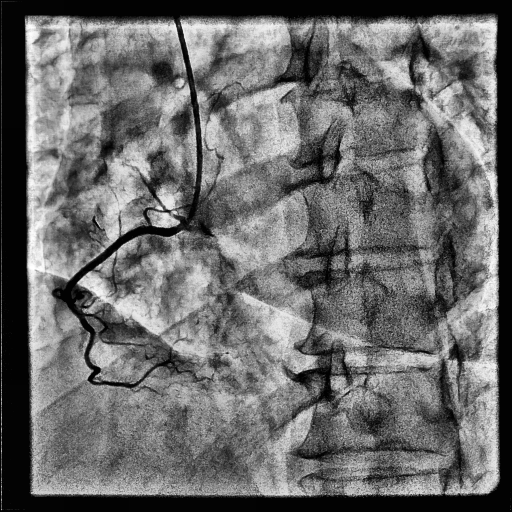rca: (64, 223, 185, 388)
